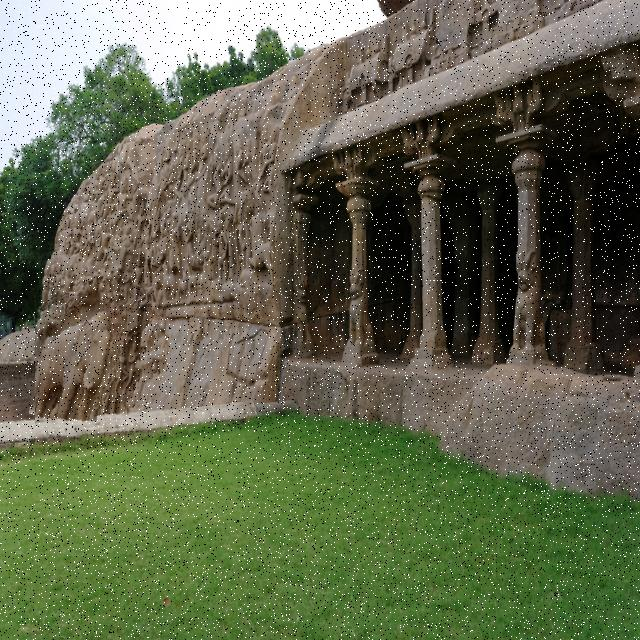elephant: (35, 293, 122, 425)
